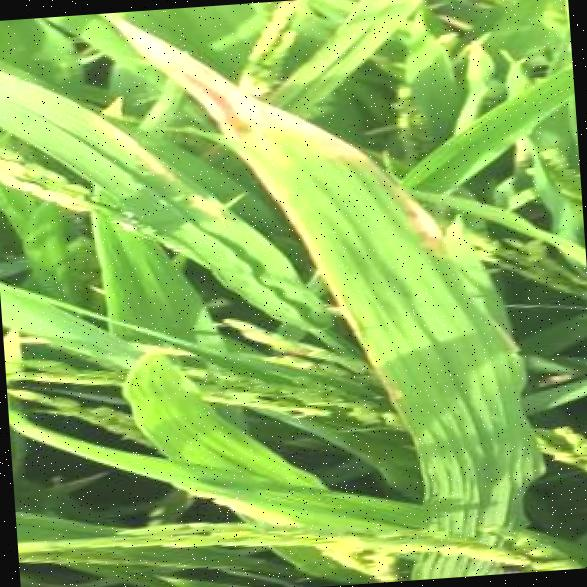Bacteria_Leaf_Blight: (241, 18, 458, 494)
